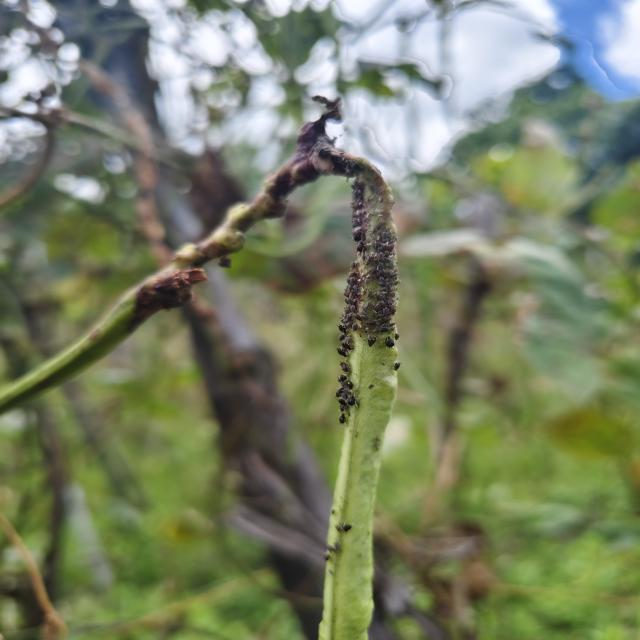sitaw-aphid-moderate: (311, 137, 399, 640)
